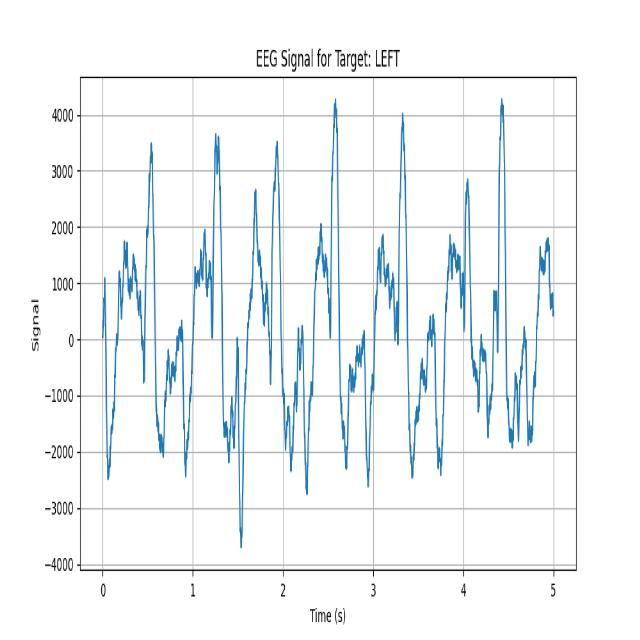LEFT: (310, 94, 374, 547), (372, 91, 435, 551), (242, 117, 308, 547), (181, 115, 241, 542), (121, 114, 181, 525), (482, 82, 534, 511), (434, 86, 482, 506)
